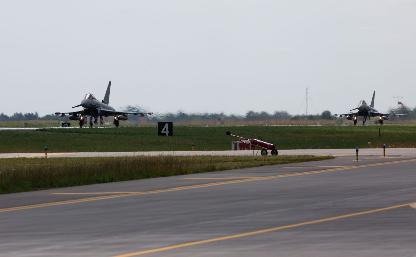E2: (54, 80, 152, 126), (334, 90, 406, 124)
